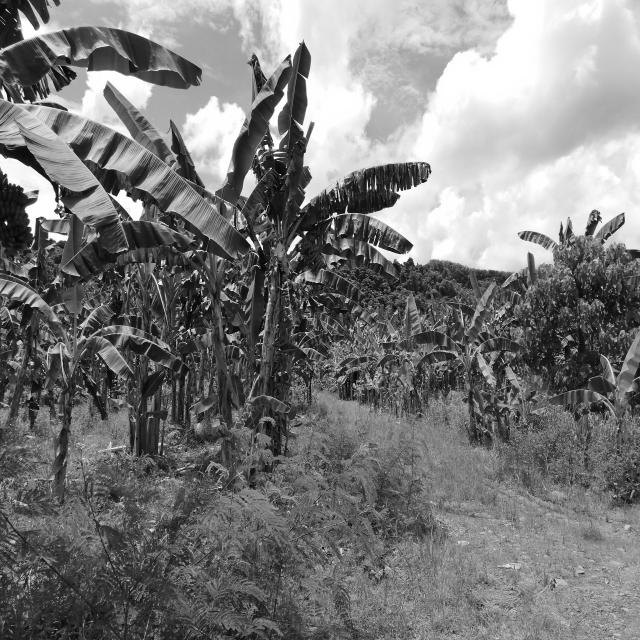Banana-plant: (243, 208, 306, 472), (203, 253, 240, 487), (43, 333, 78, 518), (137, 268, 149, 470)
